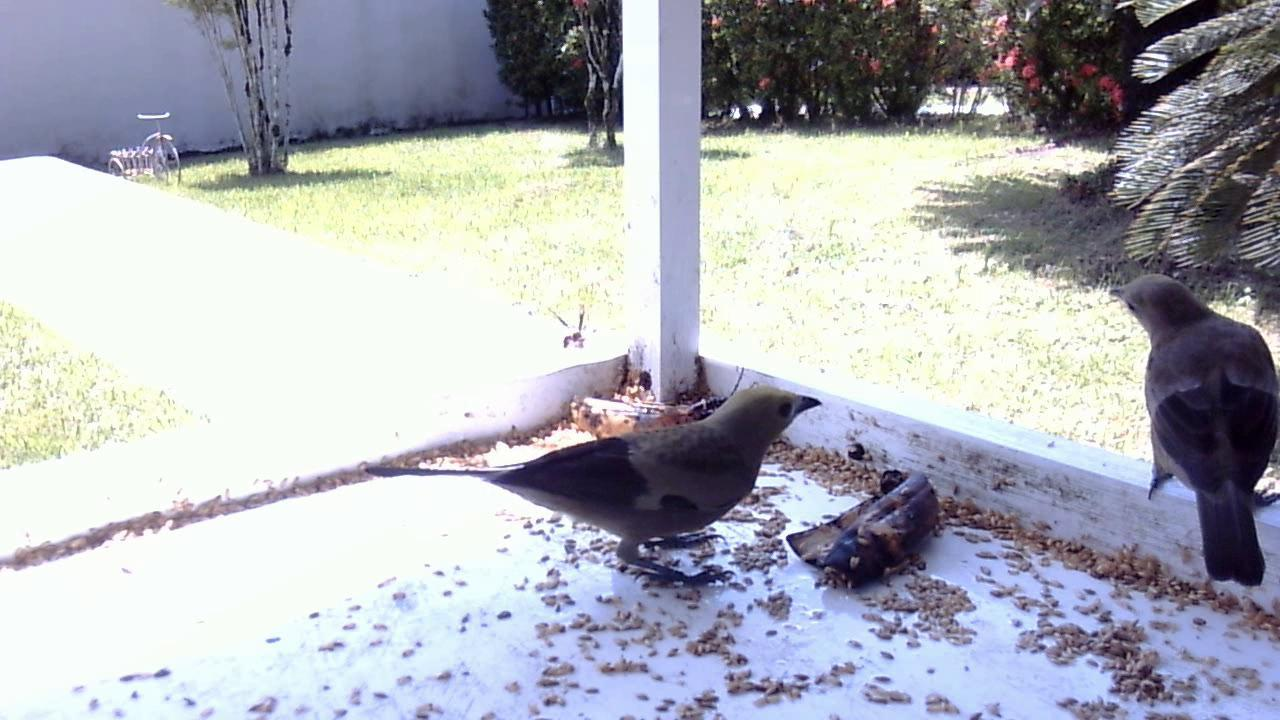sanhaco_do_coqueiro: (397, 378, 824, 606), (1103, 263, 1280, 594)
